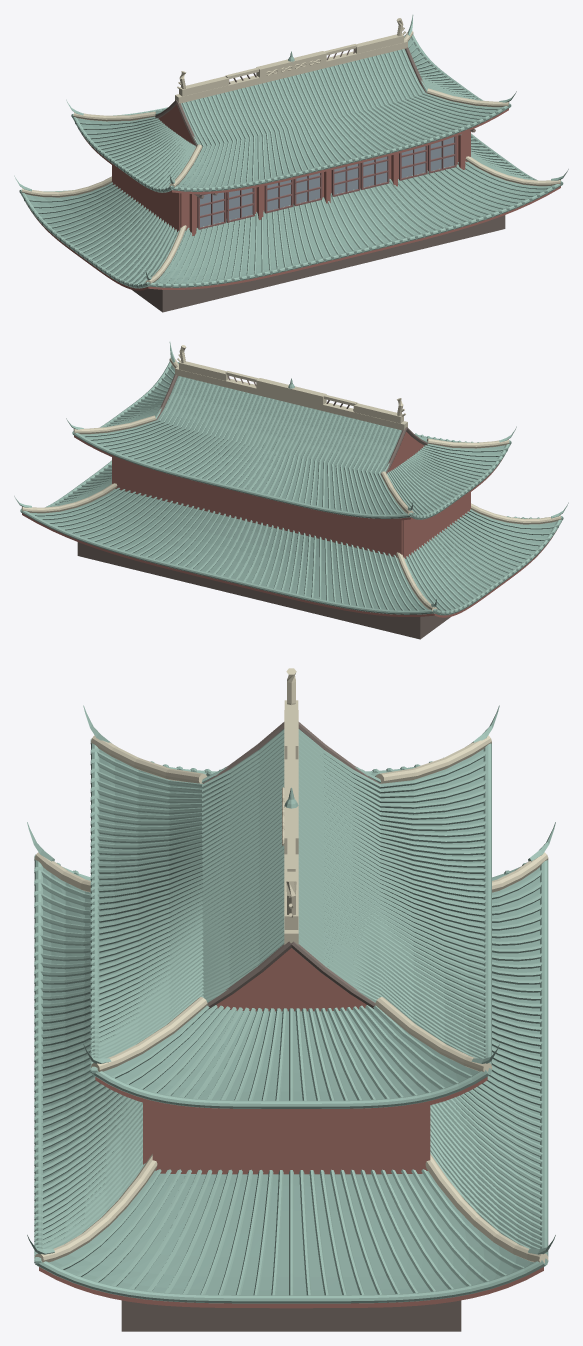
File: huangpu-shanghai-commercial-savings-bank-pavilion-raw.glb
The picture shows the model from 3 angles, top to bottom: view 1: azimuth 30°, elevation 25°; view 2: azimuth 150°, elevation 25°; view 3: azimuth 270°, elevation 25°; orthographic projection. The views are drawn at different scales.
Visible parts, largest first — view 1: 上海商业储蓄银行宁波路主楼重檐歇山楼亭; view 2: 上海商业储蓄银行宁波路主楼重檐歇山楼亭; view 3: 上海商业储蓄银行宁波路主楼重檐歇山楼亭.
Part boxes in pixels (x1,y1,x2,y2): 上海商业储蓄银行宁波路主楼重檐歇山楼亭: (14,15,568,312); 上海商业储蓄银行宁波路主楼重檐歇山楼亭: (14,342,568,639); 上海商业储蓄银行宁波路主楼重檐歇山楼亭: (27,668,555,1331).
Bounding box in the file's own units: 17.53 × 7.71 × 9.49.
